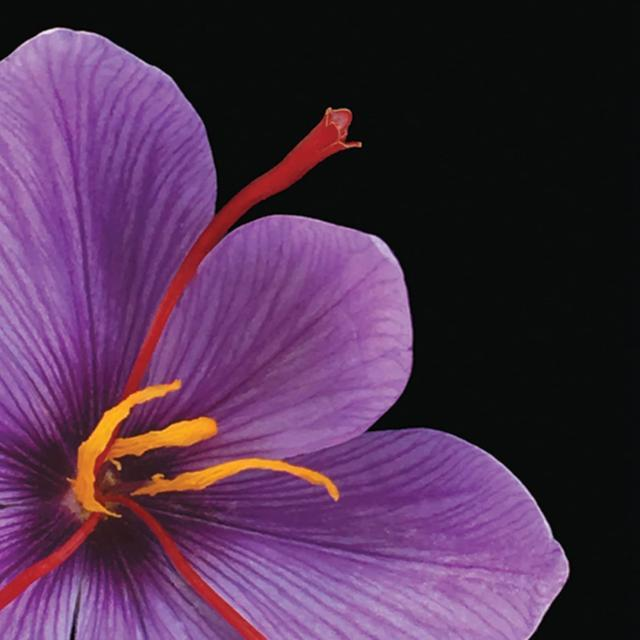Flower: (8, 27, 572, 640)
stigma: (129, 103, 355, 367), (122, 504, 258, 636), (0, 515, 105, 607)
